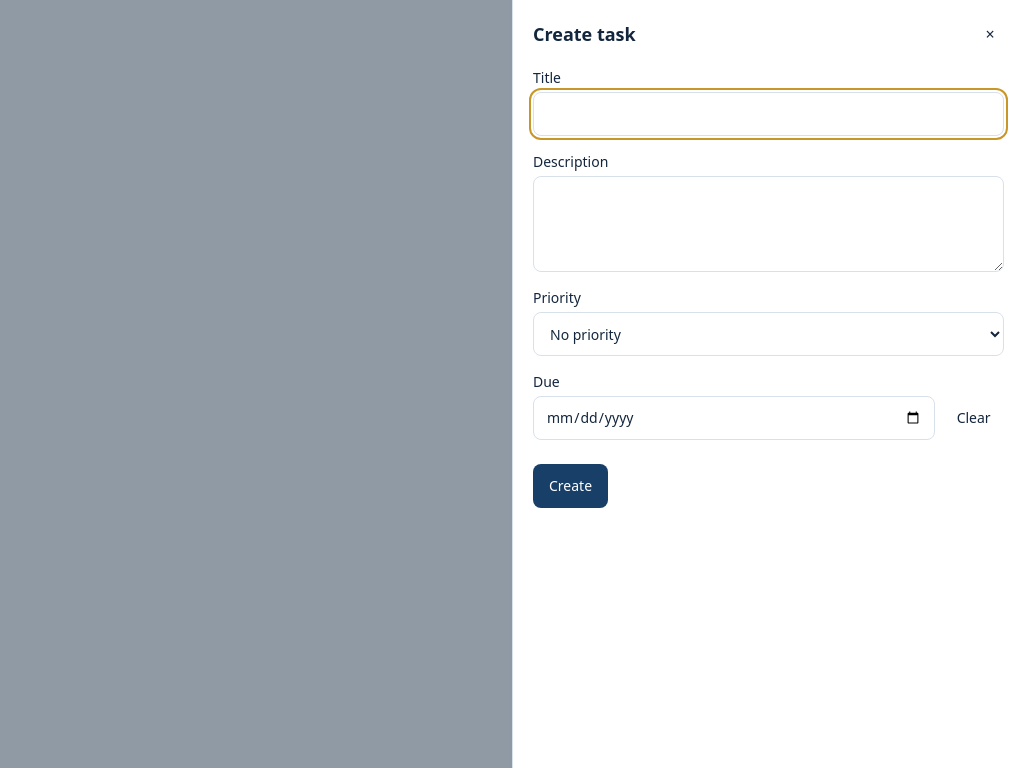
Test: TaskCreateSheet › holds the form busy while the create is in flight and disables Create
Type "Coordinate the review" into the field labelled "Title" at (768, 114), box 533,92 -> 1004,136
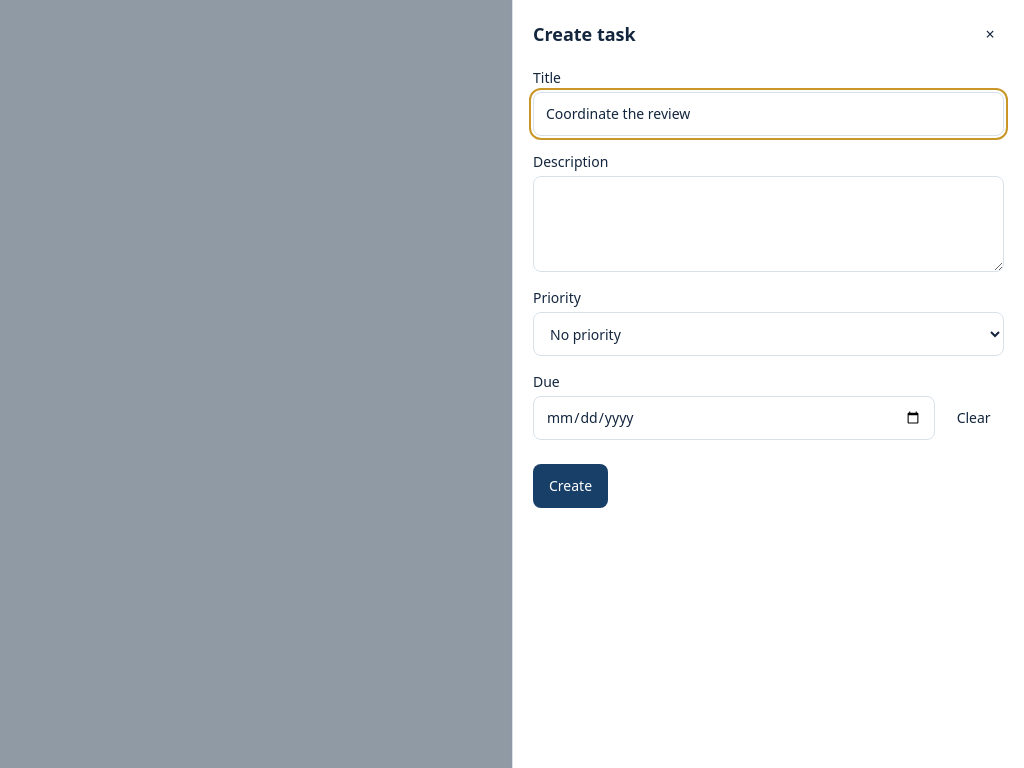
Click the button "Create" at (571, 486), box 533,464 -> 608,508
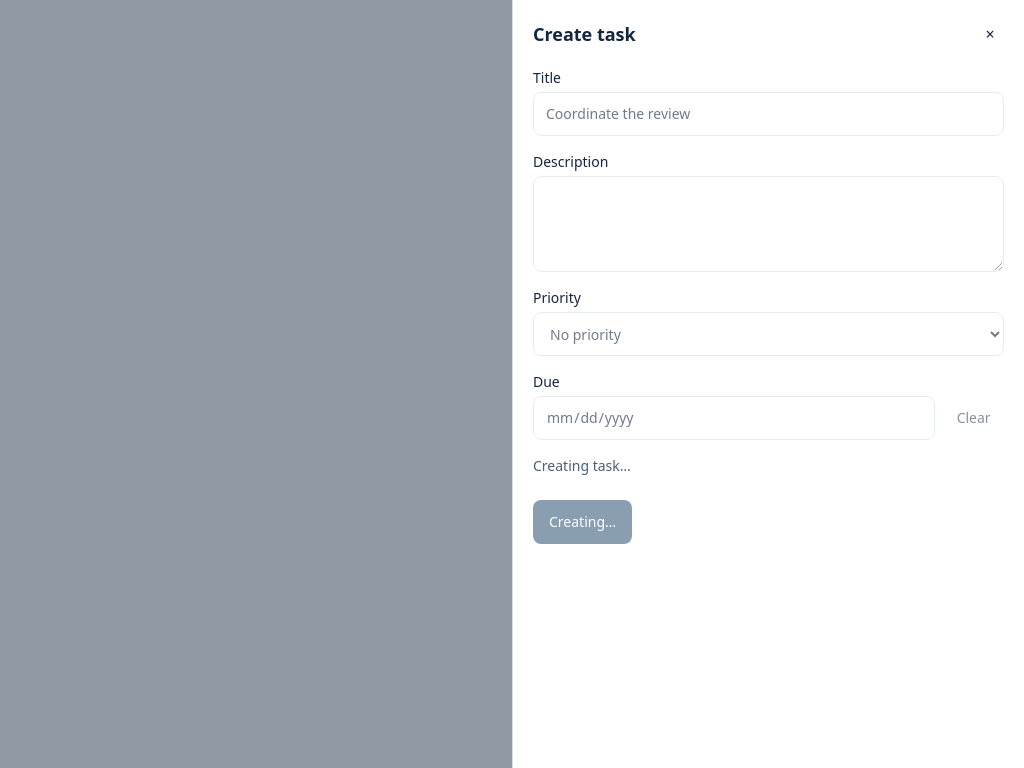
Now the button "Creating…" is disabled, box 533,500 -> 632,544
Now the field labelled "Title" is disabled, box 533,92 -> 1004,136
Now the dropdown labelled "Priority" is disabled, box 533,312 -> 1004,356
